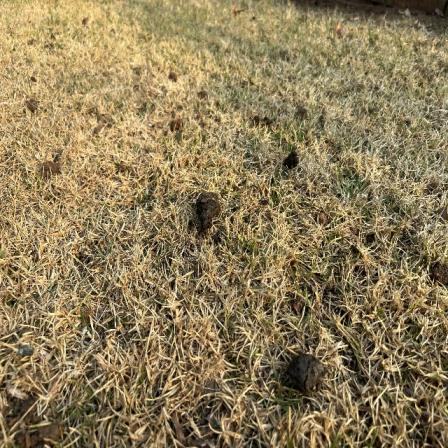dog-poop: (274, 346, 335, 400), (192, 186, 228, 229)
